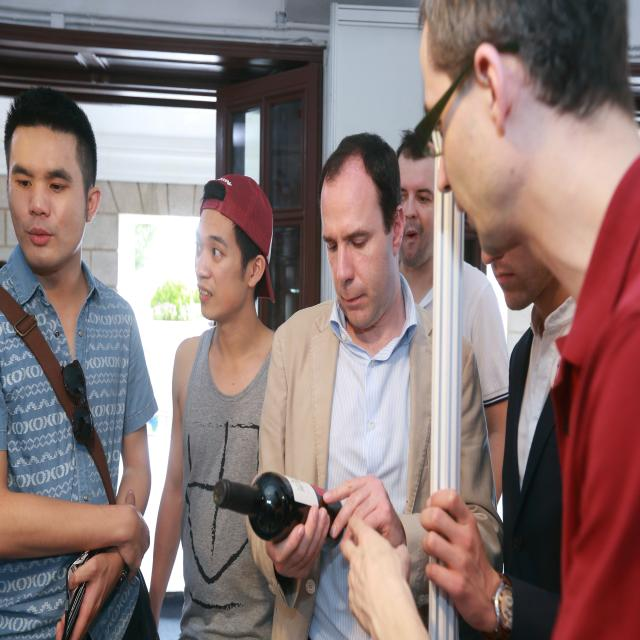body: (417, 0, 640, 640), (246, 130, 504, 640), (0, 88, 163, 640), (420, 243, 577, 640), (148, 172, 280, 640), (395, 127, 511, 508)
